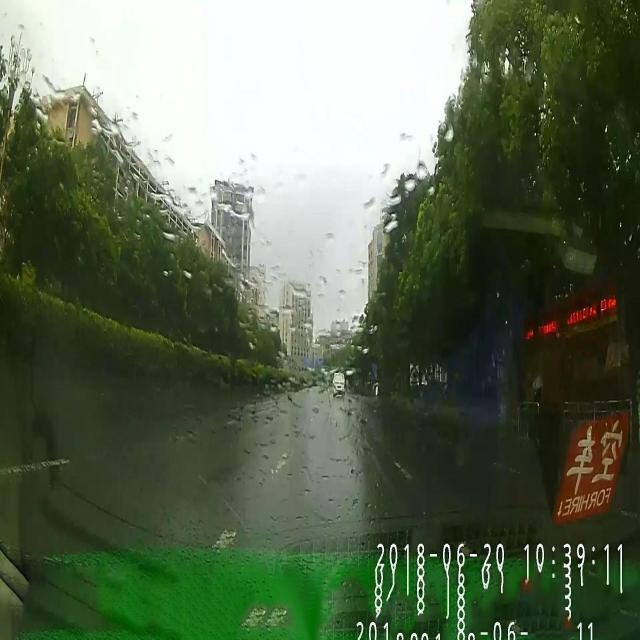car: (332, 371, 346, 400)
